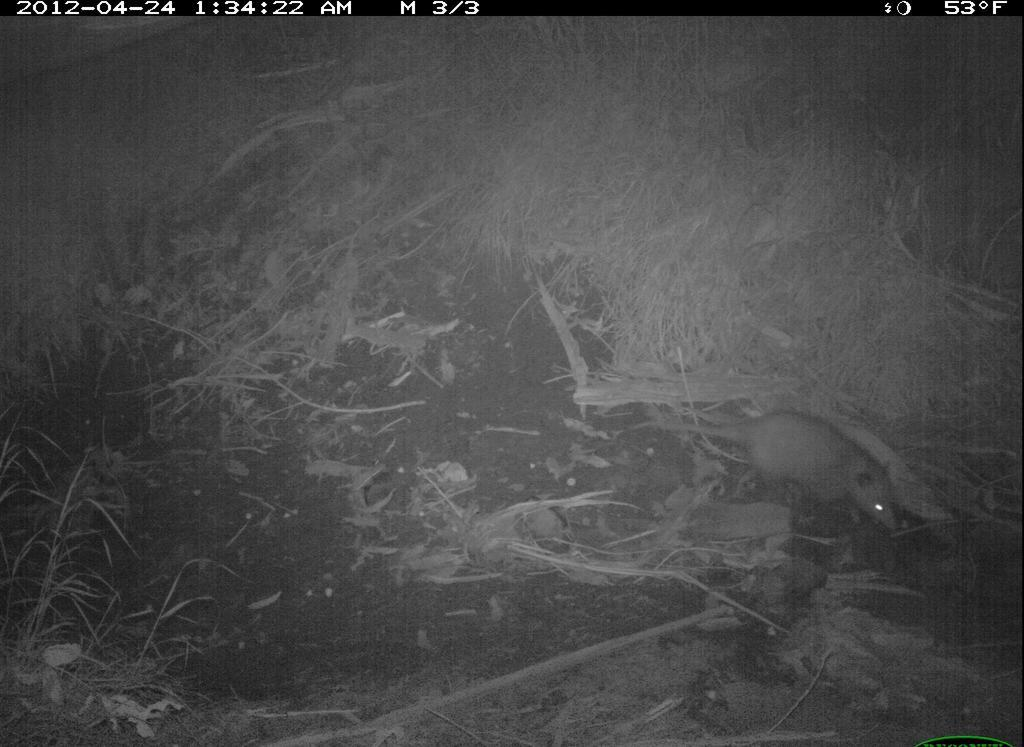opossum: (615, 374, 935, 552)
